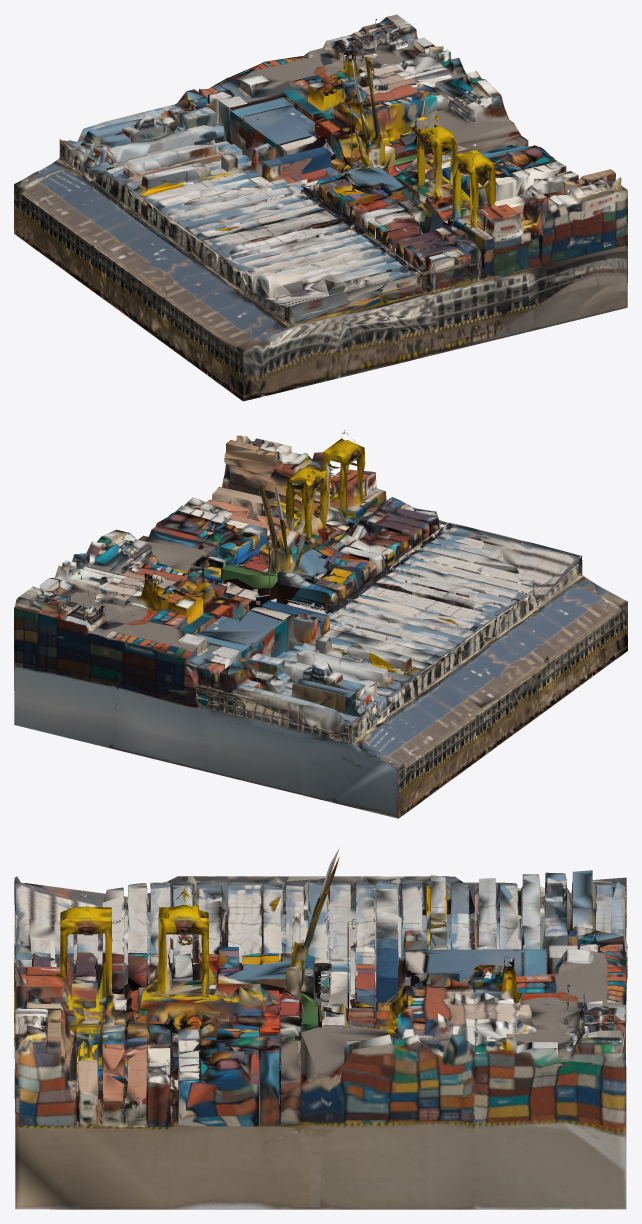
The model's file is construction-07.glb.
The picture shows the model from 3 angles, top to bottom: view 1: azimuth 30°, elevation 25°; view 2: azimuth 150°, elevation 25°; view 3: azimuth 270°, elevation 25°; orthographic projection. The views are drawn at different scales.
Size of the model in its own units: 1.31 by 0.6366 by 1.35.
1 material, 1 textured.
